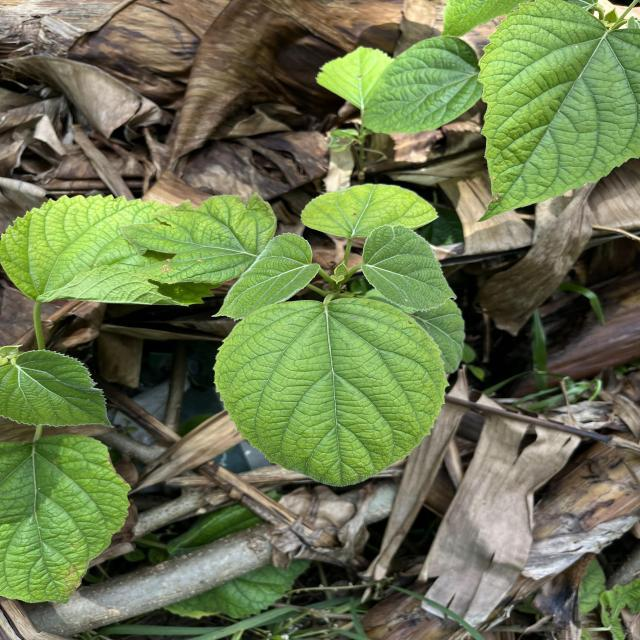Clerodendrum infortunatum: (210, 296, 453, 490), (475, 0, 639, 222), (1, 192, 224, 306), (0, 432, 134, 605), (360, 36, 482, 136), (210, 231, 320, 322), (0, 348, 116, 428), (359, 224, 458, 312), (298, 182, 439, 238)
